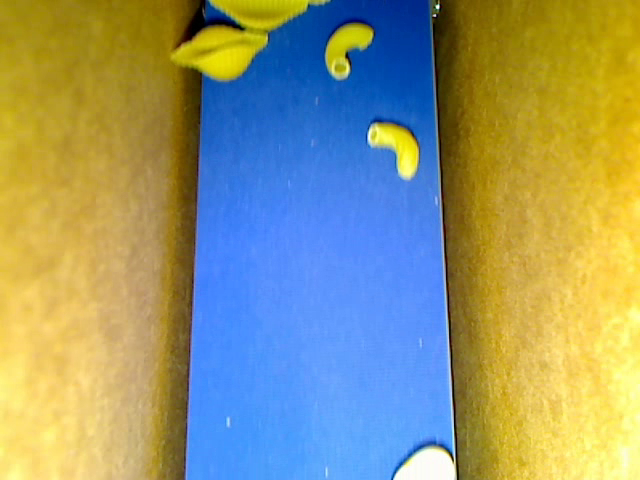elbow: (365, 122, 419, 182), (324, 24, 374, 79)
shell: (168, 24, 268, 82), (209, 1, 307, 30)
